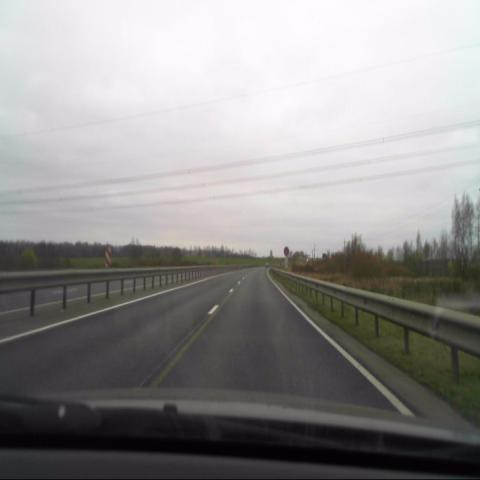3_27: (284, 245, 290, 256)
